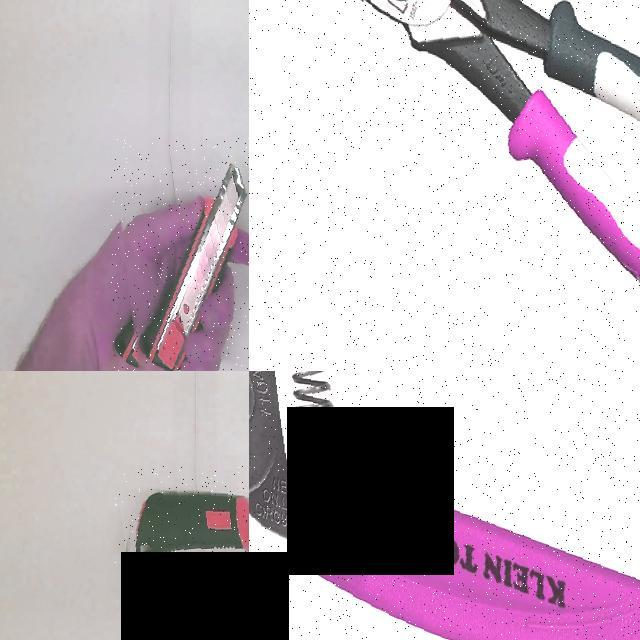estilete: (148, 166, 246, 369)
